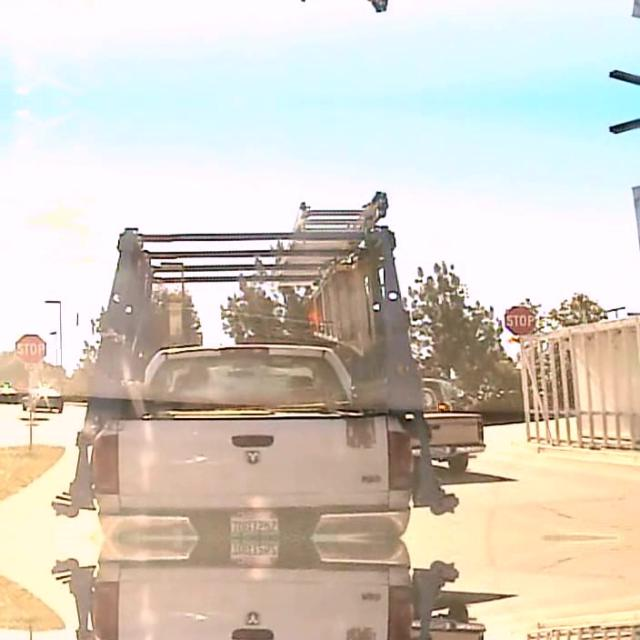stop: (14, 332, 46, 362), (504, 303, 534, 333)
